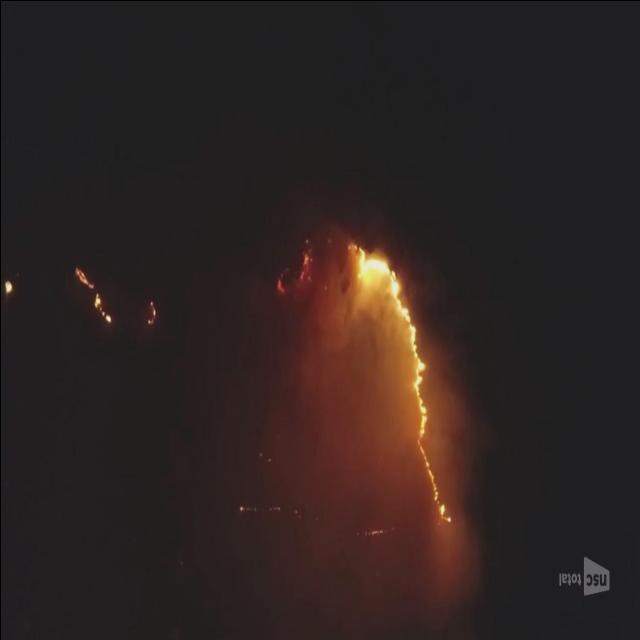Fire: (348, 243, 448, 526), (75, 264, 112, 323), (299, 251, 311, 279), (145, 298, 155, 324), (2, 280, 12, 302), (275, 277, 285, 295)
